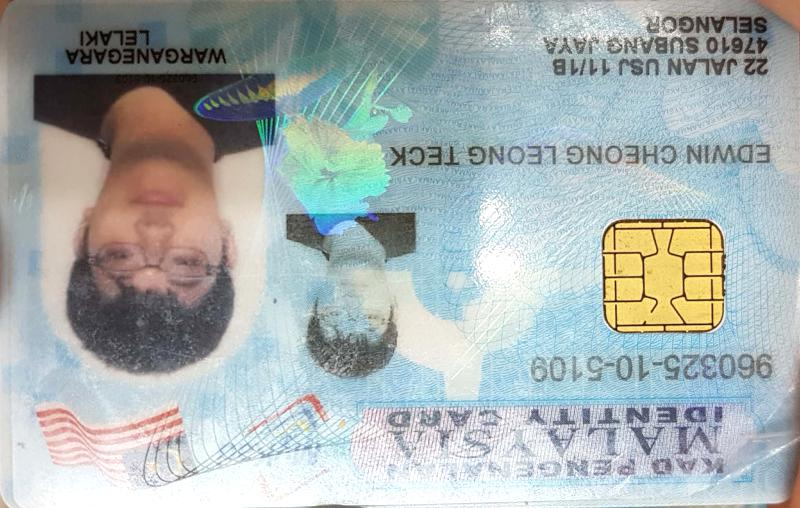hologramB: (270, 85, 390, 205)
